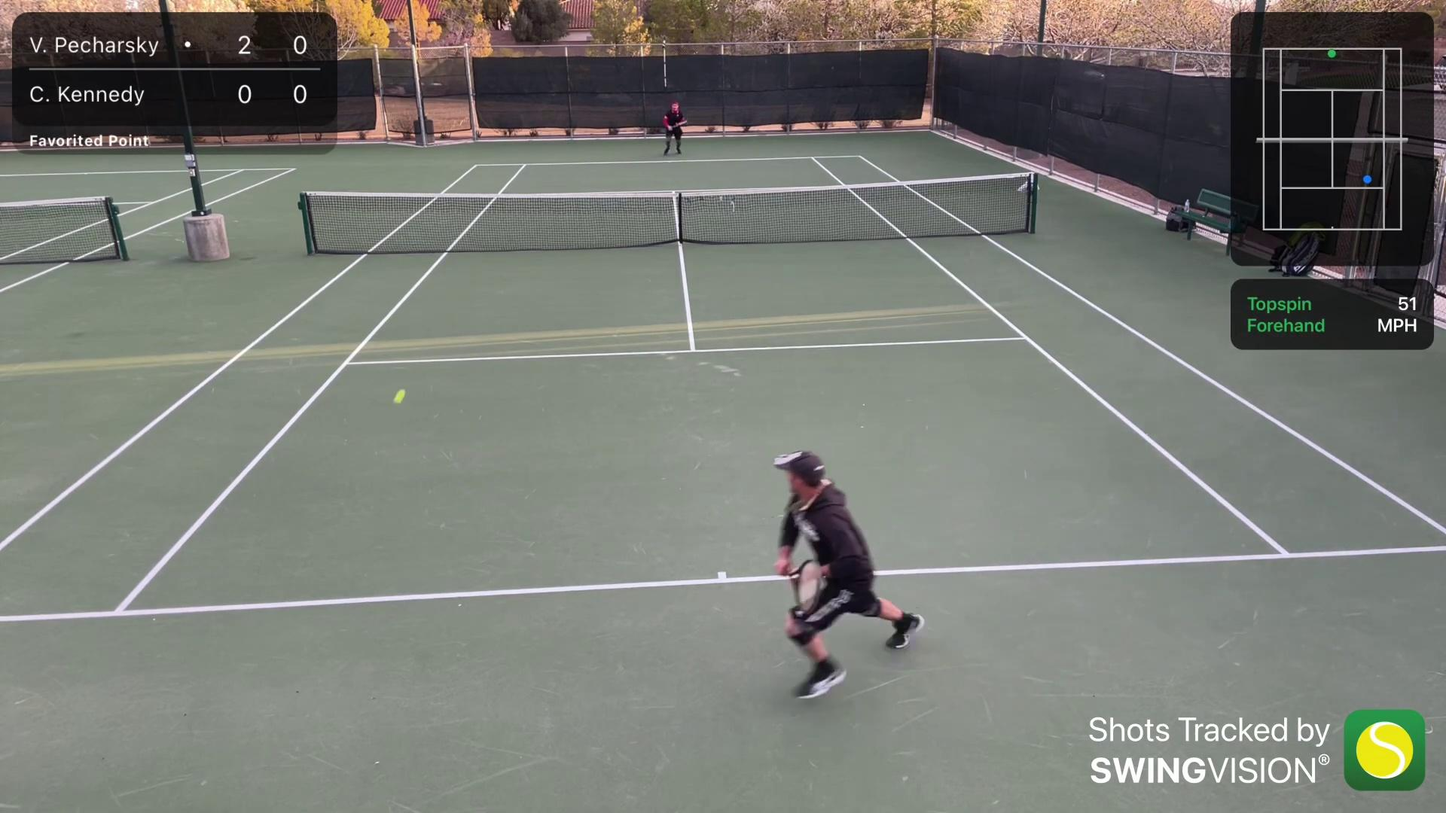ball: (390, 387, 407, 405)
